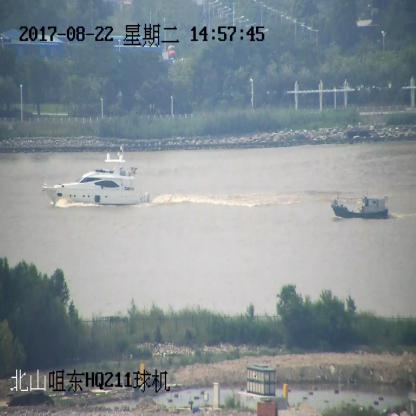Fishing Boat: (330, 194, 390, 220)
